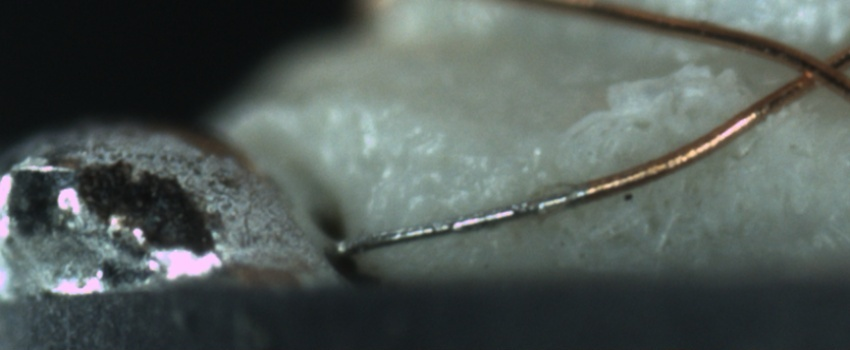CL: (779, 40, 846, 99)
TS: (329, 186, 580, 253)
